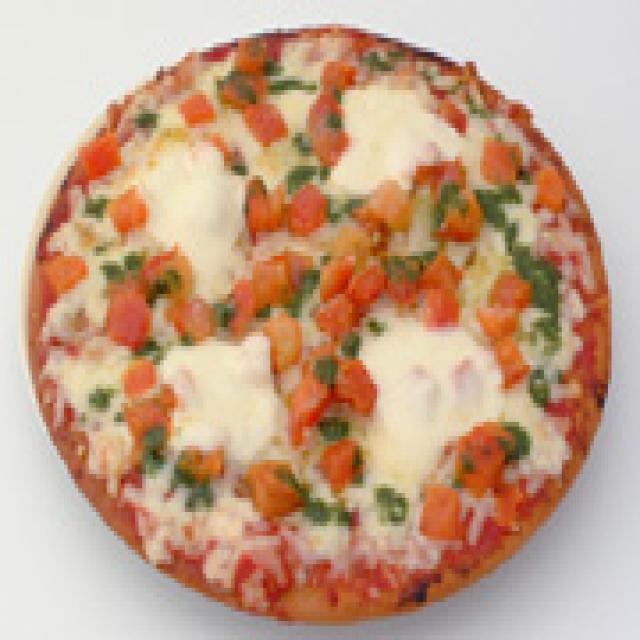Pizza: (6, 3, 640, 636)
